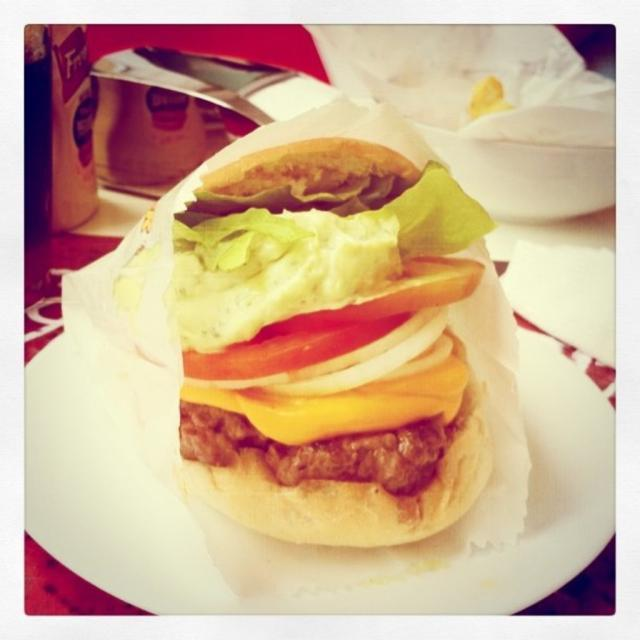Hamburger: (112, 138, 494, 545)
